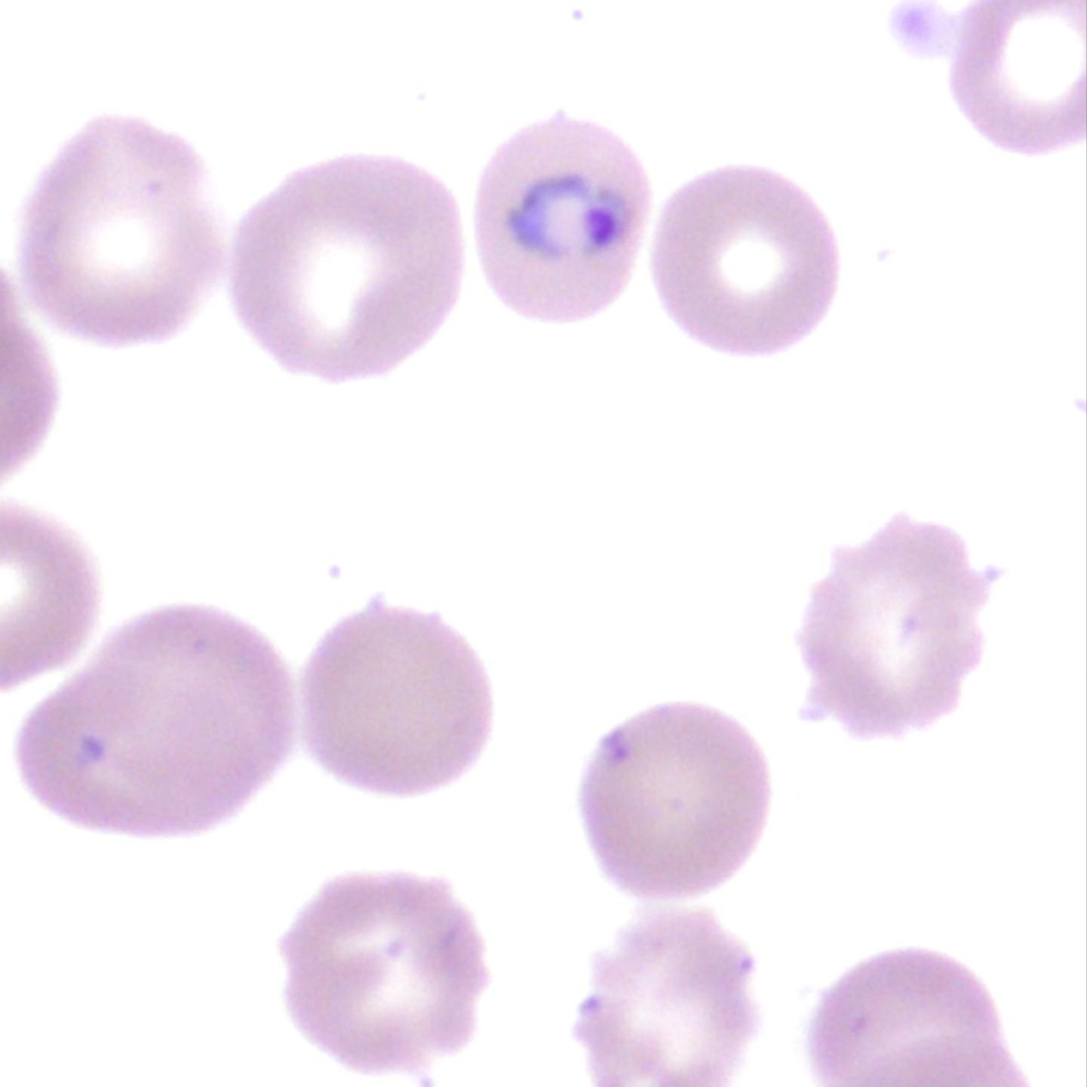Infected: (471, 115, 650, 323)
Uninfected: (15, 602, 300, 838), (224, 153, 462, 384), (15, 114, 228, 346), (790, 515, 1002, 743), (270, 868, 489, 1073), (575, 704, 775, 898), (294, 604, 495, 797), (647, 168, 840, 354), (577, 904, 759, 1087), (807, 951, 1005, 1087), (943, 0, 1087, 158)
